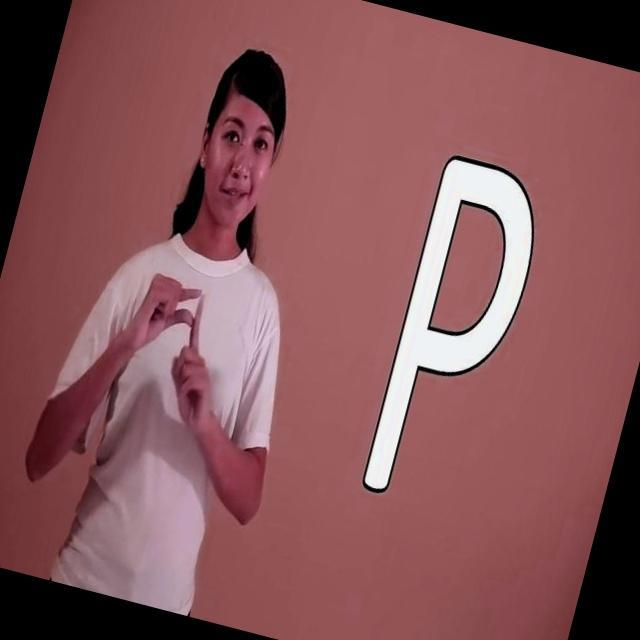P: (152, 271, 214, 400)
